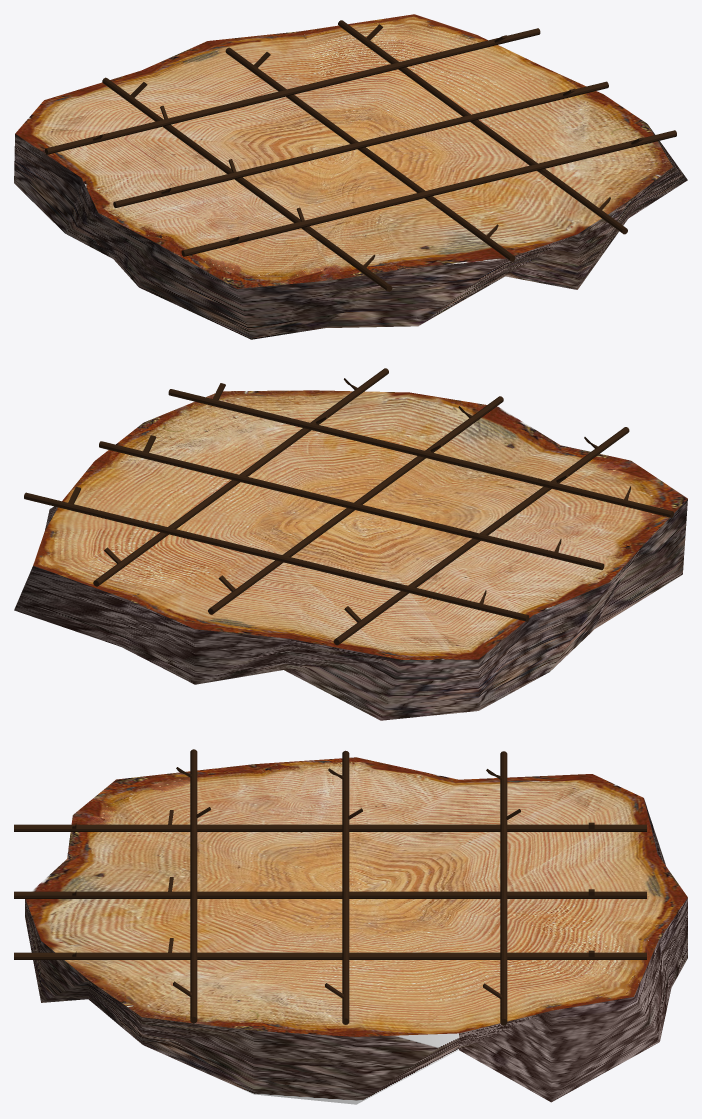
The model's file is board.fbx.
3 renders of one model, top to bottom at view 1: azimuth 30°, elevation 25°; view 2: azimuth 150°, elevation 25°; view 3: azimuth 270°, elevation 25°, orthographic. The views are drawn at different scales.
Visible parts, largest first — view 1: pCylinder4; view 2: pCylinder4; view 3: pCylinder4.
Boxes of the visible parts, x1,y1,x2,y2 form: pCylinder4: (14, 14, 687, 339); pCylinder4: (14, 368, 687, 720); pCylinder4: (14, 749, 687, 1104).
Bounding box in the file's own units: 11.45 × 2.16 × 11.3.
